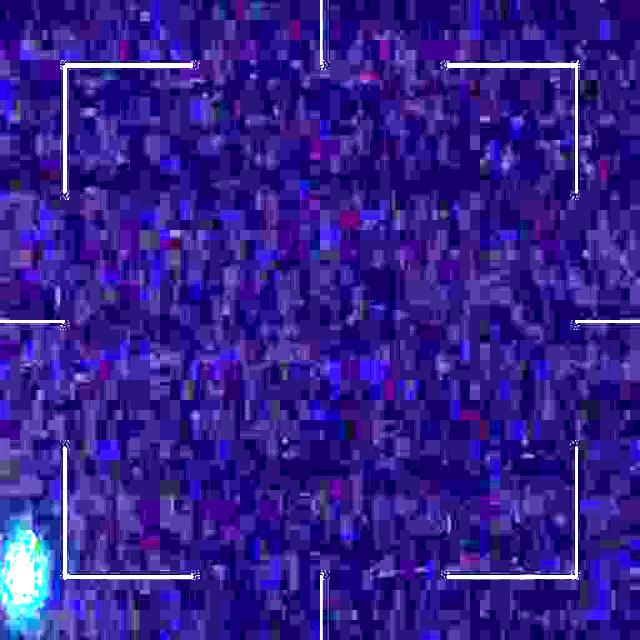bird: (0, 545, 36, 604)
